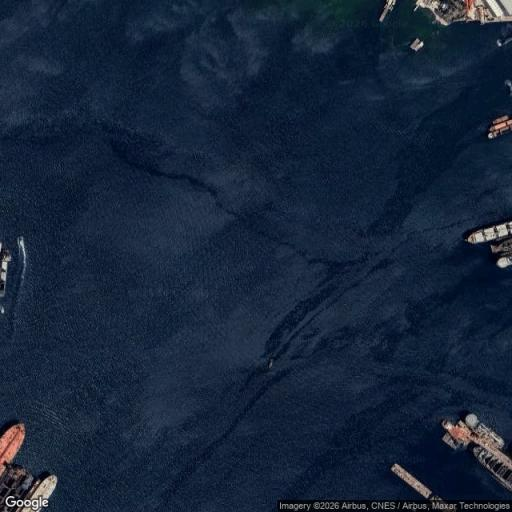ship: (474, 447, 511, 489), (19, 473, 59, 511), (466, 413, 506, 450), (0, 422, 26, 478), (391, 464, 431, 498), (466, 221, 511, 244), (443, 419, 472, 446), (0, 250, 10, 300), (495, 255, 511, 268), (410, 37, 421, 49), (414, 42, 426, 51)
